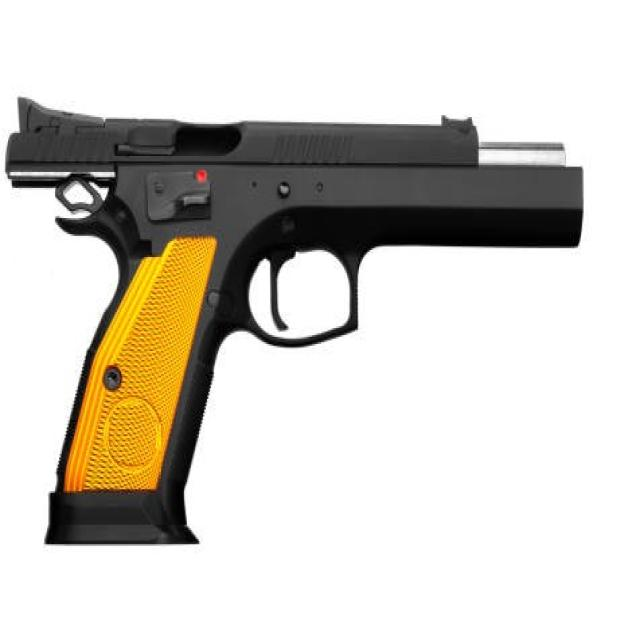pistol: (1, 86, 598, 556)
